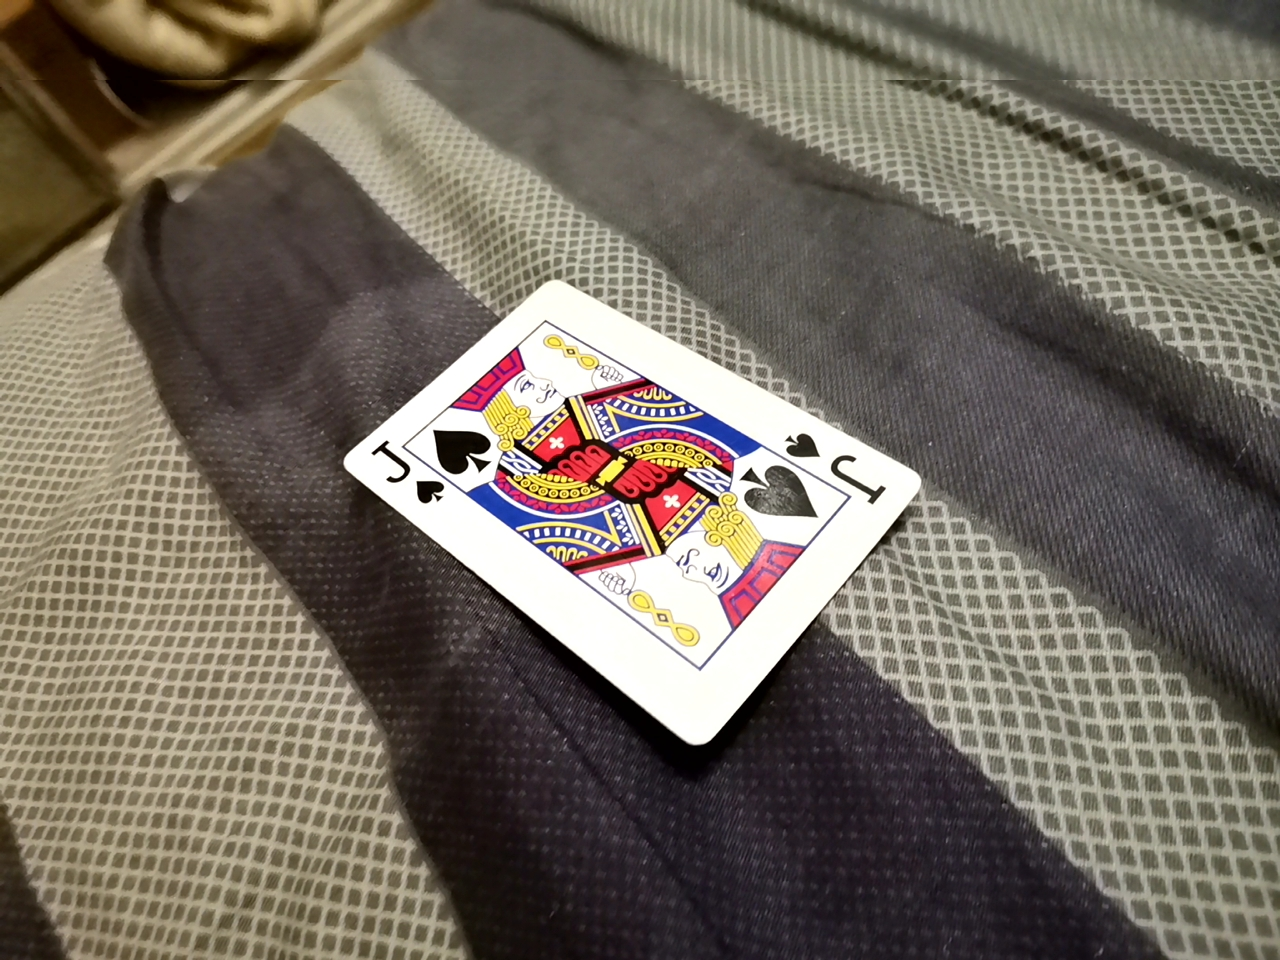ht j: (333, 283, 932, 740)
